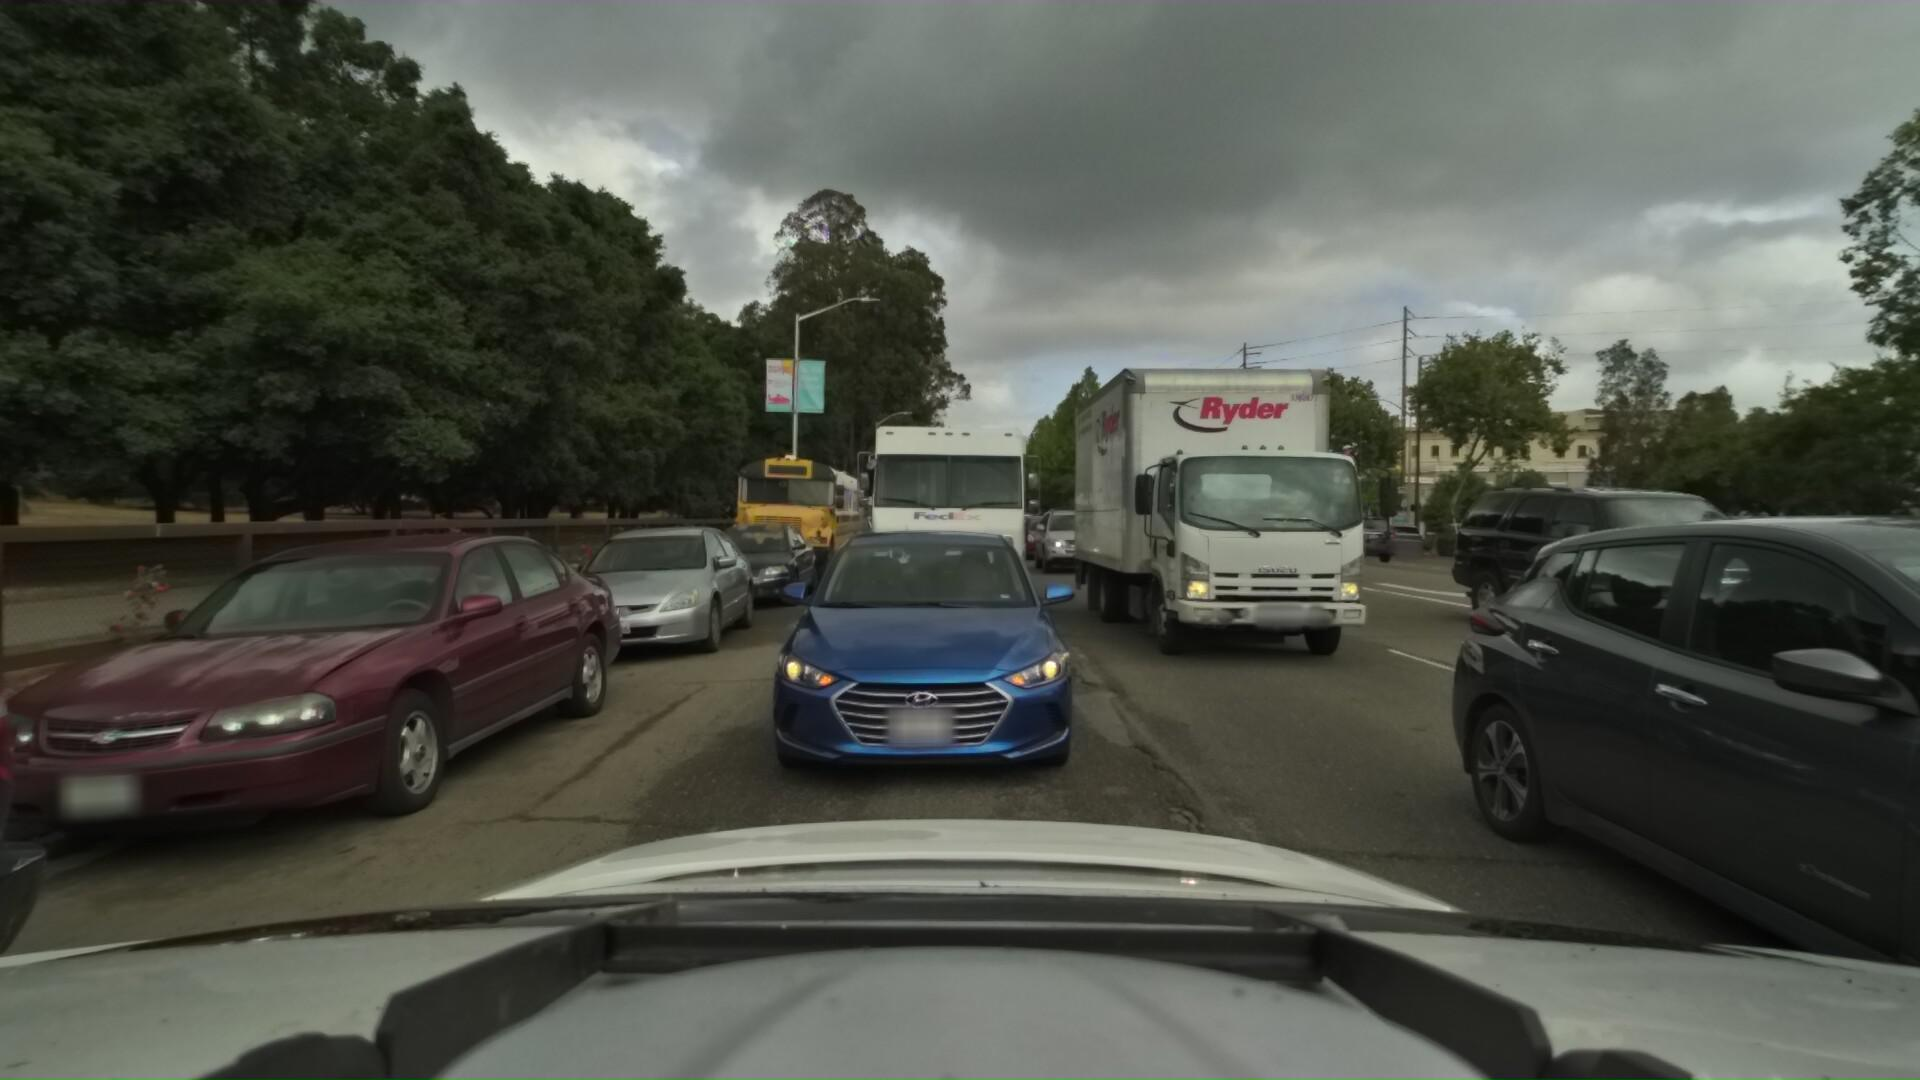bus: (708, 436, 866, 584)
car: (1424, 404, 1920, 1080), (0, 520, 636, 914), (728, 517, 1080, 814), (1422, 467, 1854, 662), (527, 517, 757, 669), (1667, 516, 1920, 613), (687, 516, 816, 612), (1797, 531, 1920, 613), (1029, 504, 1114, 576), (1302, 513, 1398, 564), (814, 509, 876, 556), (1017, 512, 1077, 559), (1356, 521, 1427, 558), (963, 502, 1013, 541)
other_vehicle: (860, 476, 907, 535)
truck: (1065, 303, 1422, 674), (852, 393, 1040, 636)
